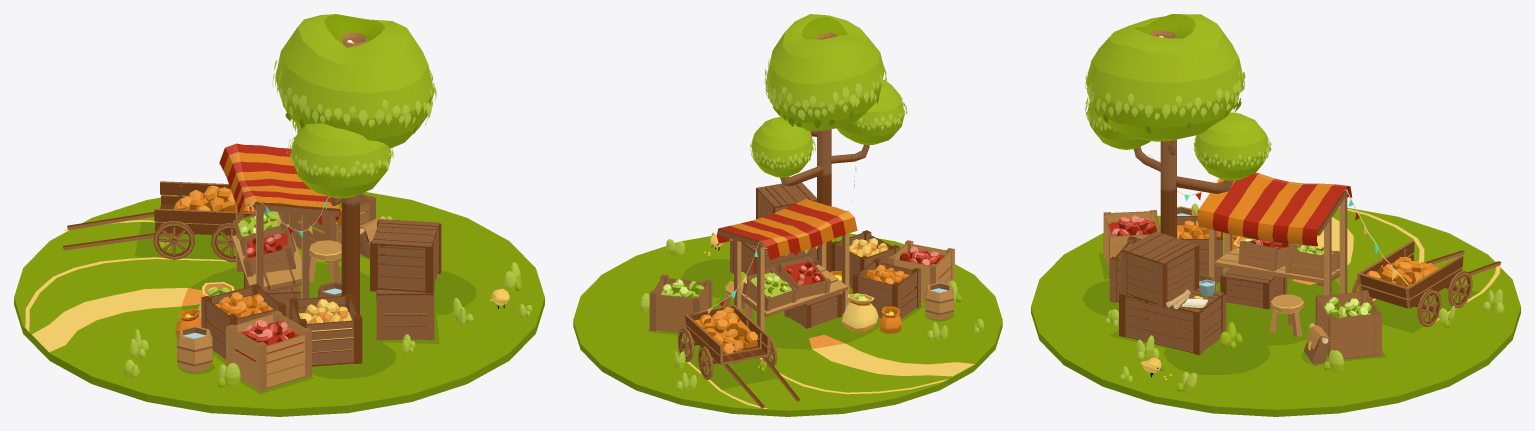
Rendered from little_fruit_store.glb.
3 renders of one model, left to right at view 1: azimuth 30°, elevation 25°; view 2: azimuth 150°, elevation 25°; view 3: azimuth 270°, elevation 25°, orthographic. The views are drawn at different scales.
Visible parts, largest first — view 1: pDisc8, polySurface487, polySurface164, S_FruitCart_02:polySurface1, S_FruitCrate_01:polySurface1, S_CrateSmall:polySurface1, S_FruitCrate_03:polySurface1, pDisc11, S_CrateLardge:polySurface1, S_FruitCrate_04:polySurface1, polySurface555, pDisc5 (+11 smaller); view 2: pDisc8, polySurface487, polySurface164, S_FruitCart_02:polySurface1, S_FruitCrate_04:polySurface1, S_FruitCrate_02:polySurface1, pDisc11, pDisc2, S_FruitCrate_01:polySurface1, S_FruitCrate_03:polySurface1, pPlane3, polySurface555 (+9 smaller); view 3: pDisc8, polySurface487, polySurface164, S_FruitCart_02:polySurface1, S_CrateLardge:polySurface1, S_CrateSmall:polySurface1, S_FruitCrate_02:polySurface1, pDisc2, pDisc3, polySurface1, S_FruitCrate_01:polySurface1, pPlane3 (+8 smaller).
Boxes of the visible parts, left/top/right/bottom form: pDisc8: left=14, top=192, right=544, bottom=416; polySurface487: left=272, top=14, right=436, bottom=314; polySurface164: left=219, top=143, right=341, bottom=298; S_FruitCart_02:polySurface1: left=63, top=181, right=255, bottom=261; S_FruitCrate_01:polySurface1: left=226, top=310, right=311, bottom=391; S_CrateSmall:polySurface1: left=370, top=219, right=441, bottom=294; S_FruitCrate_03:polySurface1: left=289, top=294, right=362, bottom=366; pDisc11: left=32, top=288, right=204, bottom=352; S_CrateLardge:polySurface1: left=376, top=289, right=434, bottom=342; S_FruitCrate_04:polySurface1: left=201, top=284, right=285, bottom=359; polySurface555: left=243, top=228, right=295, bottom=276; pDisc5: left=312, top=336, right=396, bottom=379; pDisc8: left=573, top=233, right=1002, bottom=416; polySurface487: left=750, top=14, right=907, bottom=272; polySurface164: left=716, top=199, right=857, bottom=330; S_FruitCart_02:polySurface1: left=677, top=305, right=799, bottom=408; S_FruitCrate_04:polySurface1: left=852, top=258, right=920, bottom=318; S_FruitCrate_02:polySurface1: left=649, top=274, right=712, bottom=333; pDisc11: left=809, top=334, right=974, bottom=376; pDisc2: left=712, top=292, right=879, bottom=349; S_FruitCrate_01:polySurface1: left=888, top=240, right=954, bottom=300; S_FruitCrate_03:polySurface1: left=831, top=230, right=900, bottom=289; pPlane3: left=678, top=346, right=777, bottom=389; polySurface555: left=778, top=256, right=830, bottom=299; pDisc8: left=1031, top=208, right=1520, bottom=416; polySurface487: left=1085, top=14, right=1271, bottom=238; polySurface164: left=1197, top=172, right=1352, bottom=295; S_FruitCart_02:polySurface1: left=1352, top=241, right=1501, bottom=326; S_CrateLardge:polySurface1: left=1119, top=287, right=1226, bottom=355; S_CrateSmall:polySurface1: left=1121, top=231, right=1199, bottom=308; S_FruitCrate_02:polySurface1: left=1315, top=290, right=1381, bottom=359; pDisc2: left=1216, top=278, right=1339, bottom=345; pDisc3: left=1163, top=333, right=1269, bottom=374; polySurface1: left=1220, top=268, right=1287, bottom=309; S_FruitCrate_01:polySurface1: left=1103, top=210, right=1160, bottom=277; pPlane3: left=1373, top=288, right=1478, bottom=332.
Size of the model in its own units: 1804 by 1213 by 1800.
1 material, 1 textured.
